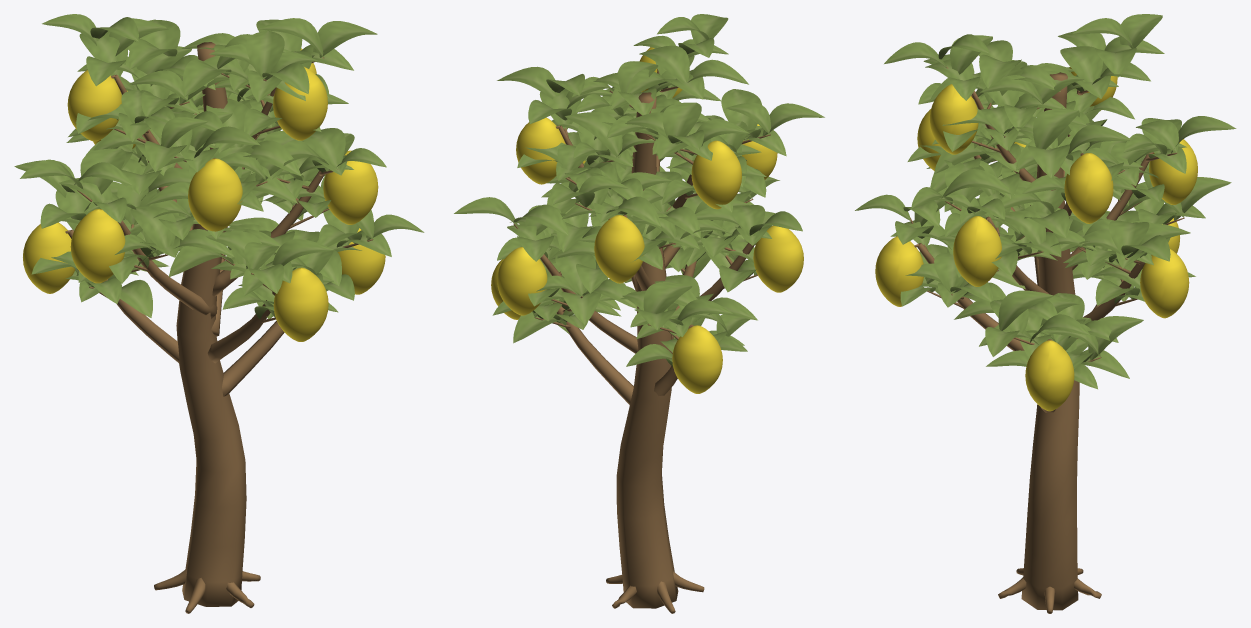
File: lemon_mature.glb
3 views of the same model, side by side, from view 1: azimuth 30°, elevation 25°; view 2: azimuth 150°, elevation 25°; view 3: azimuth 270°, elevation 25° (orthographic). The views are drawn at different scales.
Parts seen in each view (by area): view 1: leaves.001, stems.001, fruit; view 2: leaves.001, stems.001, fruit; view 3: leaves.001, fruit, stems.001.
Boxes of the visible parts, x1,y1,x2,y2 form: leaves.001: [14, 14, 424, 318]; stems.001: [65, 42, 373, 613]; fruit: [23, 48, 385, 341]; leaves.001: [454, 14, 824, 366]; stems.001: [513, 69, 770, 613]; fruit: [491, 47, 803, 393]; leaves.001: [855, 14, 1236, 389]; fruit: [875, 67, 1197, 411]; stems.001: [910, 66, 1184, 613].
Size of the model in its own units: 1.12 by 1.74 by 1.07.
